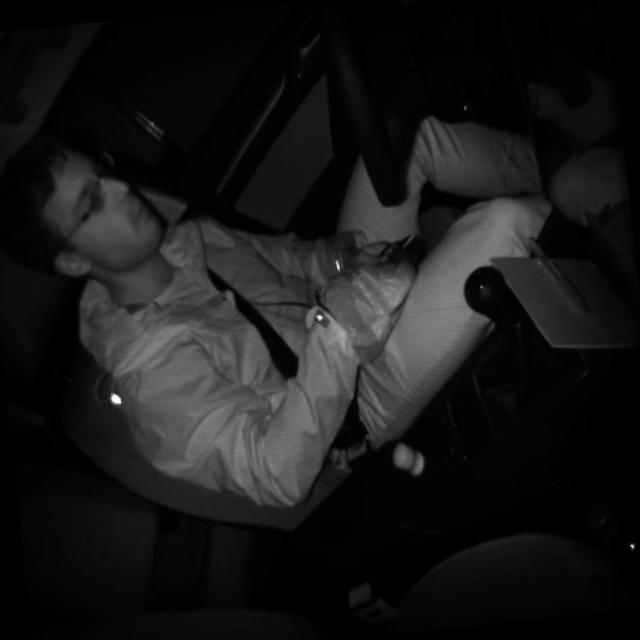pen: (526, 229, 592, 324)
